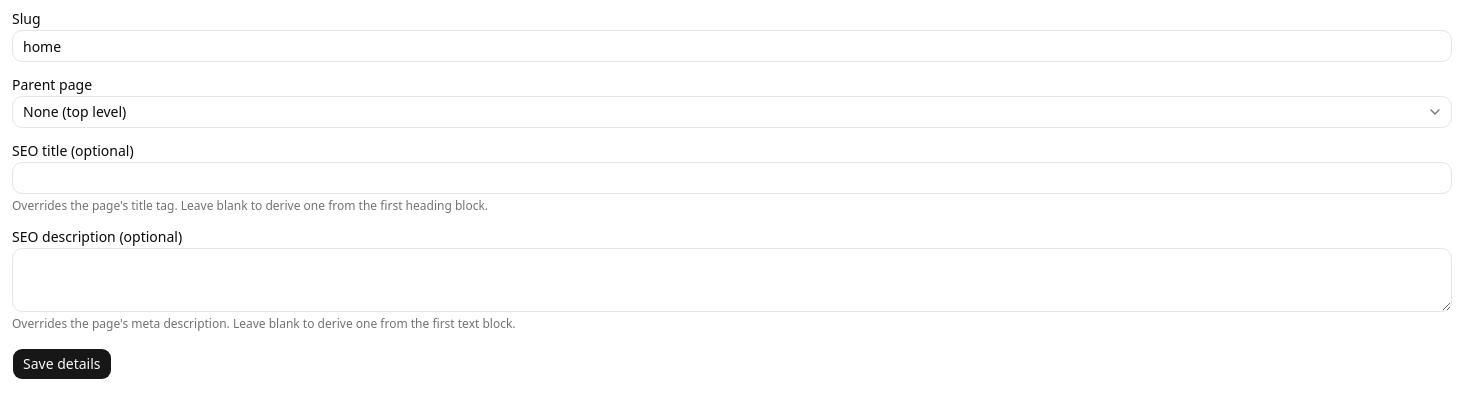
DocumentDetailsForm › never puts an error in the URL: a slug-taken failure renders inline and doesn't navigate
Replace the text in the field labelled "Slug" with "taken-slug": {"x": 732, "y": 46} [12,30,1452,62]
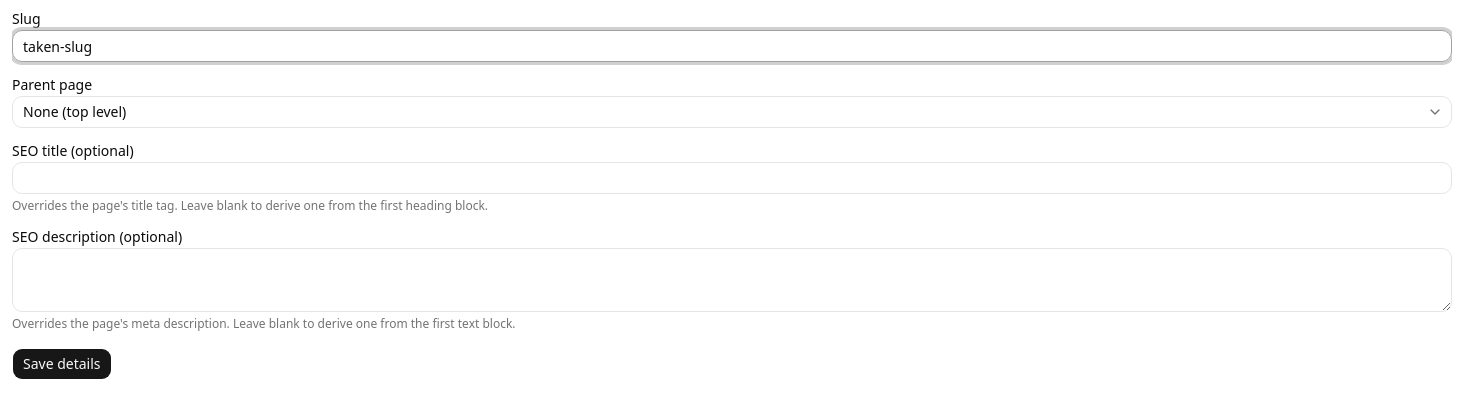
Click the button "Save details": {"x": 62, "y": 364} [12,348,112,380]
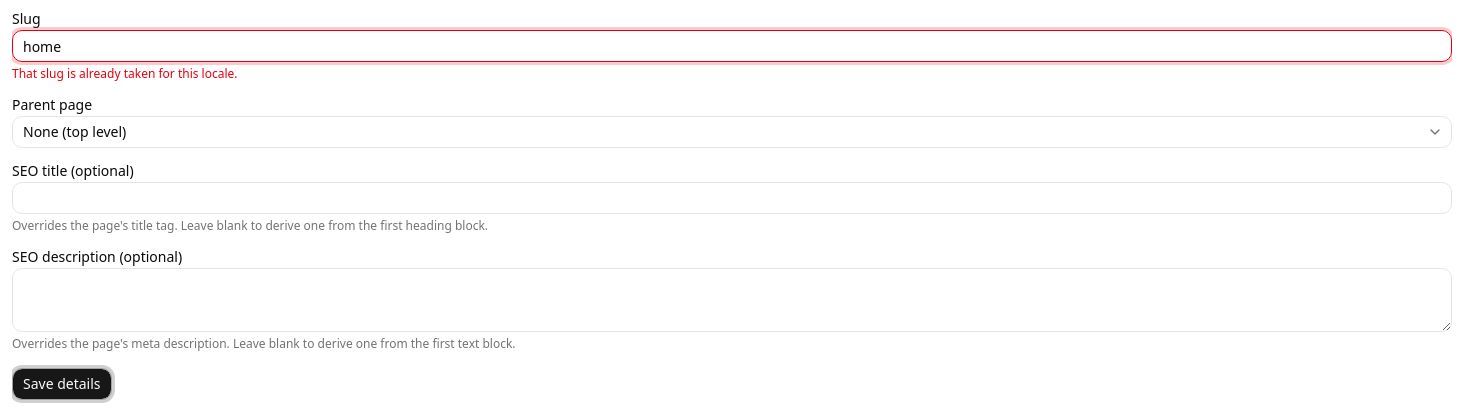
Now the text "That slug is already taken for this locale." is shown, box [12,66,238,82]
